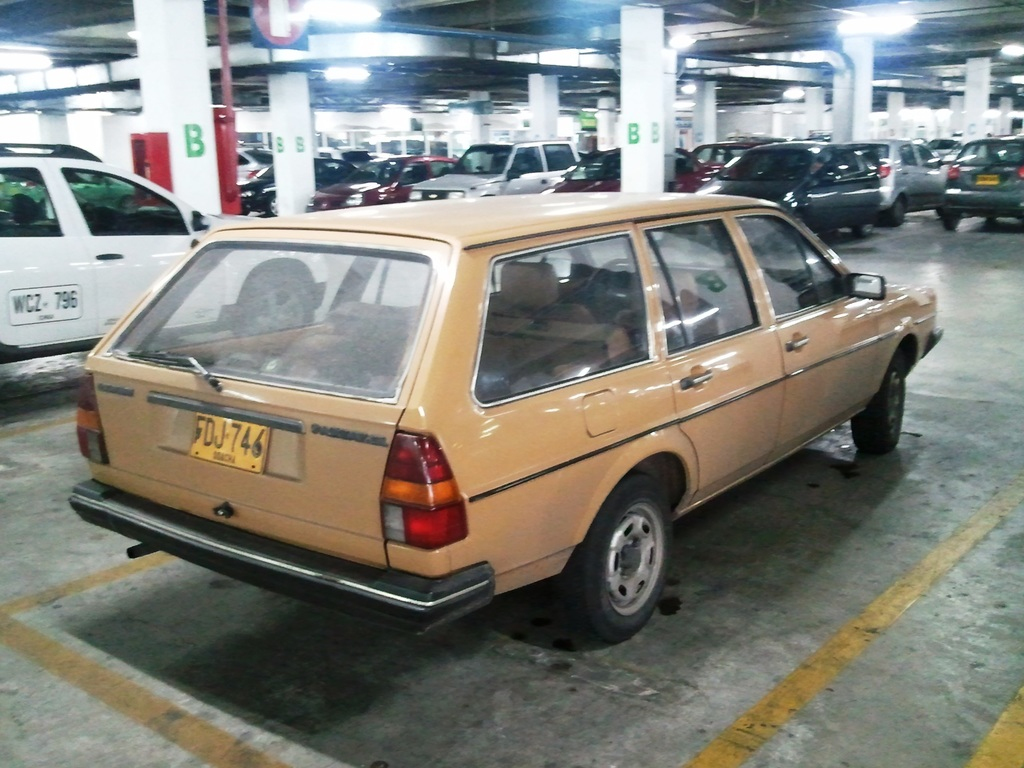Car: (0, 132, 1023, 643)
